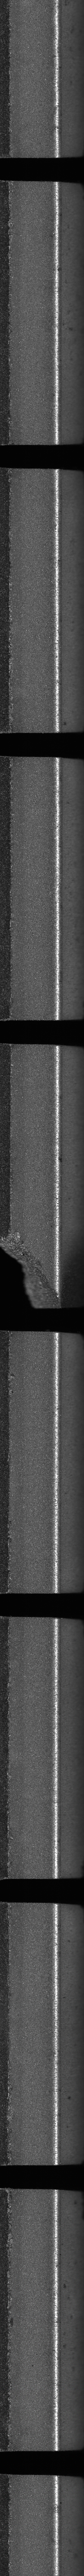Chip: (0, 1224, 66, 1313)
